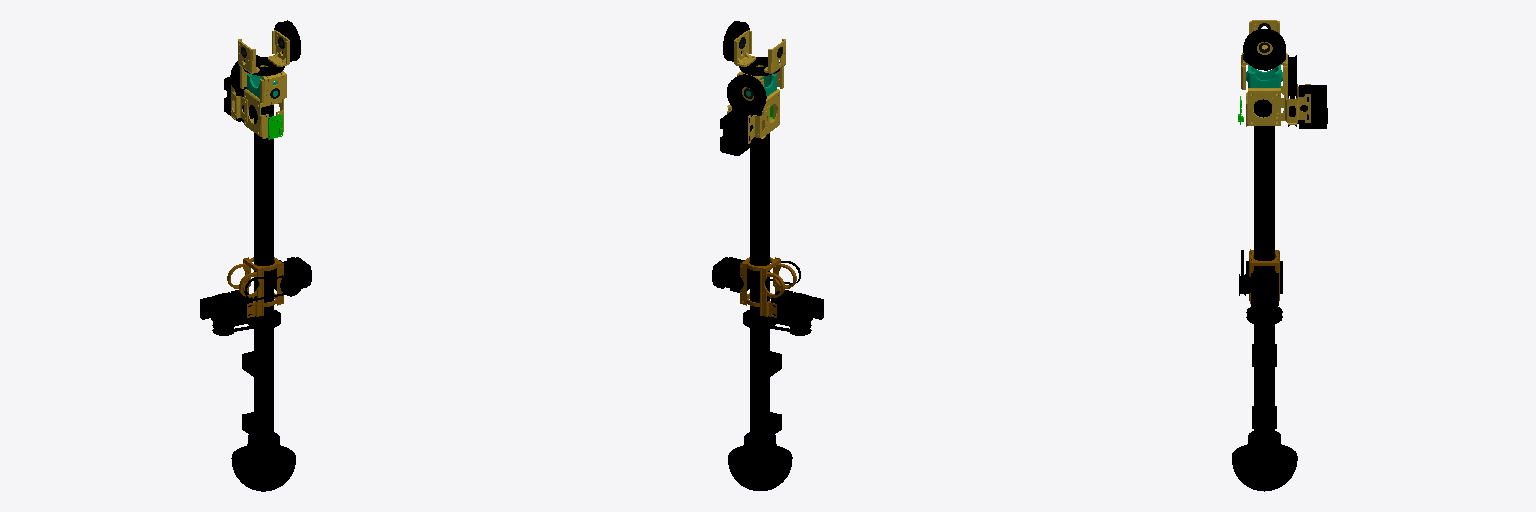
robot.urdf — simple_leg:
<?xml version="1.0"?>
<!--
  Simplified terminal SPIDAR leg. Only joint_pitch_servo is movable; the
  remaining joints are fixed and the gimbal-pitch link is omitted.

  Composite properties about the joint_pitch_servo Y axis. These include the
  moving subtree (link, gimbal_roll_module, and link_foot) and exclude the
  fixed parent-side joint_junction_link:
    Mass      = 0.712000 kg
    COM       = (0.251200, 0.007034, -0.008460) m from the joint origin
    ComLength = sqrt(COM_x^2 + COM_z^2) = 0.251343 m
    Inertia J = sum(I_yy + m * (x^2 + z^2)) = 0.0639427 kg*m^2
-->
<robot name="simple_leg">
  <!--
    Gazebo treats a link named "world" as the inertial world when it is the
    parent of a fixed joint.  The +90 degree pitch points the leg downward at
    zero joint position, which is the gravity-stable hanging pose.  The 0.8 m
    height keeps the foot clear of the ground over the calibration range.
  -->
  <link name="world"/>

  <joint name="world_to_joint_junction" type="fixed">
    <parent link="world"/>
    <child link="joint_junction_link"/>
    <origin xyz="0 0 0.8" rpy="0 1.5707963267948966 0"/>
  </joint>

  <!-- Root / pitch-joint support -->
  <link name="joint_junction_link">
    <inertial>
      <origin xyz="0.026 0.004 0.004" rpy="0 0 0"/>
      <mass value="0.095"/>
      <inertia
        ixx="0.000074" ixy="0.000009" ixz="-0.000009"
        iyy="0.000079" iyz="-0.000001" izz="0.000079"/>
    </inertial>
    <visual>
      <origin xyz="0 0 0" rpy="0 0 0"/>
      <geometry>
        <mesh filename="package://end_leg/mesh/joint_junction_link.dae"/>
      </geometry>
    </visual>
  </link>

  <gazebo reference="joint_junction_link">
    <mu1>0.2</mu1>
    <mu2>0.2</mu2>
    <dampingFactor>0.00</dampingFactor>
  </gazebo>

  <joint name="joint_pitch_servo" type="revolute">
    <parent link="joint_junction_link"/>
    <child link="link"/>
    <origin xyz="0.0515 0 0" rpy="0 0 0"/>
    <axis xyz="0 1 0"/>
    <limit effort="10.0" lower="-1.5707963267948966" upper="1.5707963267948966" velocity="0.1"/>
    <dynamics damping="0.9" friction="0.05"/>
  </joint>

  <!-- Terminal/end link -->
  <link name="link">
    <inertial>
      <origin xyz="0.157 0.015 0" rpy="0 0 0"/>
      <mass value="0.347"/>
      <inertia
        ixx="0.000276" ixy="-0.000606" ixz="-0.000031"
        iyy="0.008551" iyz="0.000001" izz="0.008772"/>
    </inertial>
    <visual>
      <origin xyz="0 0 0" rpy="0 0 0"/>
      <geometry>
        <mesh filename="package://end_leg/mesh/end_link.dae"/>
      </geometry>
    </visual>
    <collision>
      <origin xyz="0.2515 0 0" rpy="0 1.5707963267948966 0"/>
      <geometry>
        <cylinder length="0.423" radius="0.025"/>
      </geometry>
    </collision>
  </link>

  <gazebo reference="link">
    <mu1>0.2</mu1>
    <mu2>0.2</mu2>
    <dampingFactor>0.00</dampingFactor>
  </gazebo>

  <!-- Simplified fixed gimbal-roll mount -->
  <joint name="gimbal_roll" type="fixed">
    <parent link="link"/>
    <child link="gimbal_roll_module"/>
    <origin xyz="0.268 0 0" rpy="0 0 0"/>
  </joint>

  <link name="gimbal_roll_module">
    <inertial>
      <origin xyz="0.0145839 -0.0007152 -0.0219046" rpy="0 0 0"/>
      <mass value="0.275"/>
      <inertia
        ixx="0.000456" ixy="0.000003" ixz="-0.000125"
        iyy="0.000504" iyz="-0.000009" izz="0.000157"/>
    </inertial>
    <visual>
      <origin xyz="0 0 0" rpy="0 0 0"/>
      <geometry>
        <mesh filename="package://end_leg/mesh/roll_link.dae"/>
      </geometry>
    </visual>
  </link>

  <gazebo reference="gimbal_roll_module">
    <mu1>0.2</mu1>
    <mu2>0.2</mu2>
    <dampingFactor>0.00</dampingFactor>
  </gazebo>

  <!-- Foot attached to the tip of the end link -->
  <joint name="link2link_foot" type="fixed">
    <parent link="link"/>
    <child link="link_foot"/>
    <origin xyz="0.5115 0 0" rpy="0 0 0"/>
  </joint>

  <link name="link_foot">
    <inertial>
      <origin xyz="0.007 0 0" rpy="0 0 0"/>
      <mass value="0.09"/>
      <inertia
        ixx="0.000055" ixy="0" ixz="0"
        iyy="0.000047" iyz="0" izz="0.000055"/>
    </inertial>
    <visual>
      <origin xyz="0 0 0" rpy="0 0 0"/>
      <geometry>
        <mesh filename="package://end_leg/mesh/leg_cap.dae"/>
      </geometry>
    </visual>
    <collision>
      <origin xyz="0 0 0" rpy="0 0 0"/>
      <geometry>
        <sphere radius="0.04"/>
      </geometry>
    </collision>
  </link>

  <gazebo reference="link_foot">
    <mu1>0</mu1>
    <mu2>0</mu2>
  </gazebo>

  <!-- Actuator interface for the only movable joint -->
  <transmission name="joint_pitch_servo_tran">
    <type>transmission_interface/SimpleTransmission</type>
    <joint name="joint_pitch_servo">
      <hardwareInterface>hardware_interface/EffortJointInterface</hardwareInterface>
    </joint>
    <actuator name="joint_pitch_servo_actuator">
      <hardwareInterface>hardware_interface/EffortJointInterface</hardwareInterface>
      <mechanicalReduction>1</mechanicalReduction>
    </actuator>
  </transmission>

  <!-- Minimal ros_control interface used only by the Gazebo launch. -->
  <gazebo>
    <plugin name="gazebo_ros_control" filename="libgazebo_ros_control.so">
      <robotNamespace>/end_leg</robotNamespace>
      <robotParam>robot_description</robotParam>
      <robotSimType>gazebo_ros_control/DefaultRobotHWSim</robotSimType>
    </plugin>
  </gazebo>
</robot>

--- Facts derived from the render (not from the file) ---
The picture shows the robot from 3 angles, left to right: view 1: azimuth 30°, elevation 25°; view 2: azimuth 150°, elevation 25°; view 3: azimuth 270°, elevation 25°; orthographic projection.
Model simple_leg with 5 links and 4 joints (1 revolute, 3 fixed), rooted at world, posed all joints at 0.
Links seen in each view (by area): view 1: link, gimbal_roll_module, joint_junction_link, link_foot; view 2: link, gimbal_roll_module, joint_junction_link, link_foot; view 3: link, link_foot, joint_junction_link, gimbal_roll_module.
Boxes of the visible links, x1,y1,x2,y2 form: link: (224, 60, 283, 441); gimbal_roll_module: (200, 257, 311, 335); joint_junction_link: (230, 20, 300, 102); link_foot: (231, 432, 295, 491); link: (720, 74, 781, 441); gimbal_roll_module: (712, 257, 823, 335); joint_junction_link: (723, 21, 785, 114); link_foot: (728, 432, 792, 490); link: (1238, 58, 1327, 439); link_foot: (1232, 431, 1297, 491); joint_junction_link: (1241, 20, 1296, 97); gimbal_roll_module: (1239, 249, 1282, 322).
Size in the robot's own frame: 0.138 by 0.1173 by 0.629 metres.
4 mesh visuals loaded from 4 distinct referenced files (4 Collada DAE).
